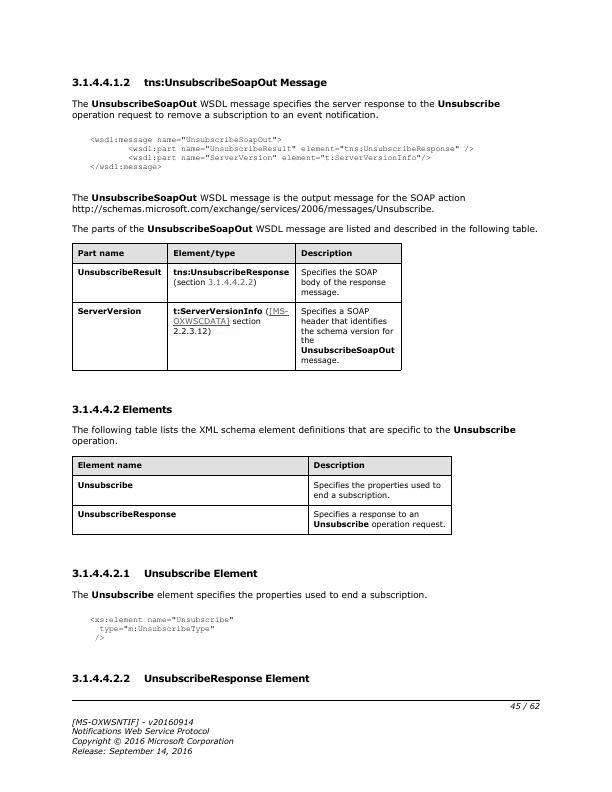table: (71, 241, 403, 373), (70, 454, 456, 538)
text: (86, 135, 475, 172), (68, 421, 518, 448), (70, 188, 466, 215), (70, 97, 502, 120), (68, 221, 540, 237), (68, 715, 235, 759), (68, 587, 429, 602), (86, 614, 236, 643), (68, 75, 331, 90), (68, 671, 311, 687), (70, 566, 260, 581), (68, 400, 176, 418)
